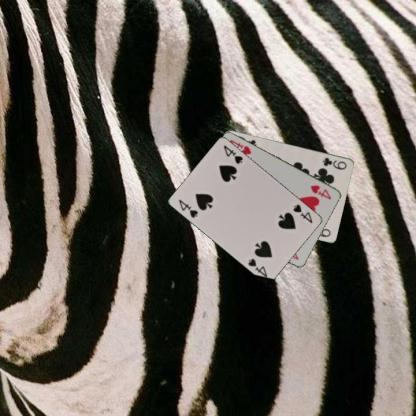4h: (308, 182, 333, 201)
4s: (290, 201, 314, 224), (176, 196, 200, 219)
9c: (320, 155, 348, 171)
